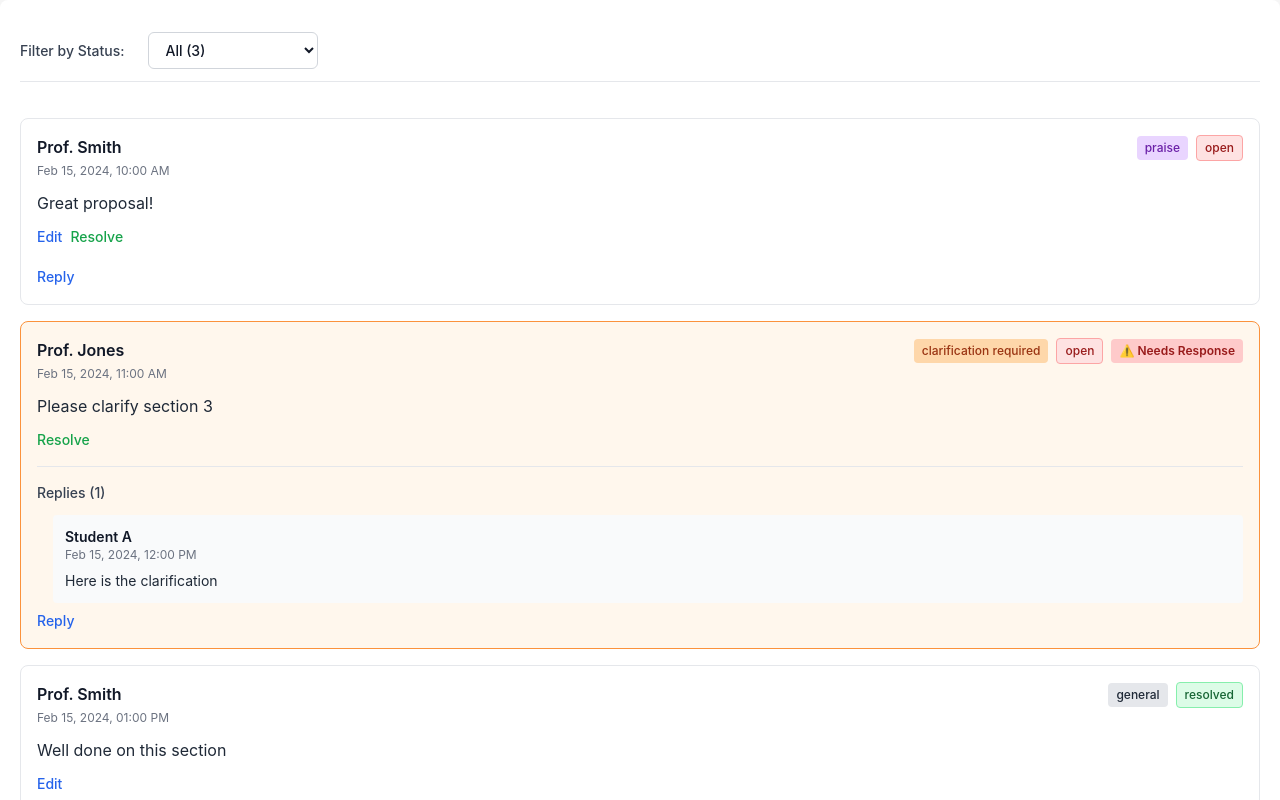
Test: CommentThread › Reply Form › reply button expands inline textarea (criterion 22)
Click the button with aria-label "Reply to comment by" at (56, 277), box [37,267,74,287]
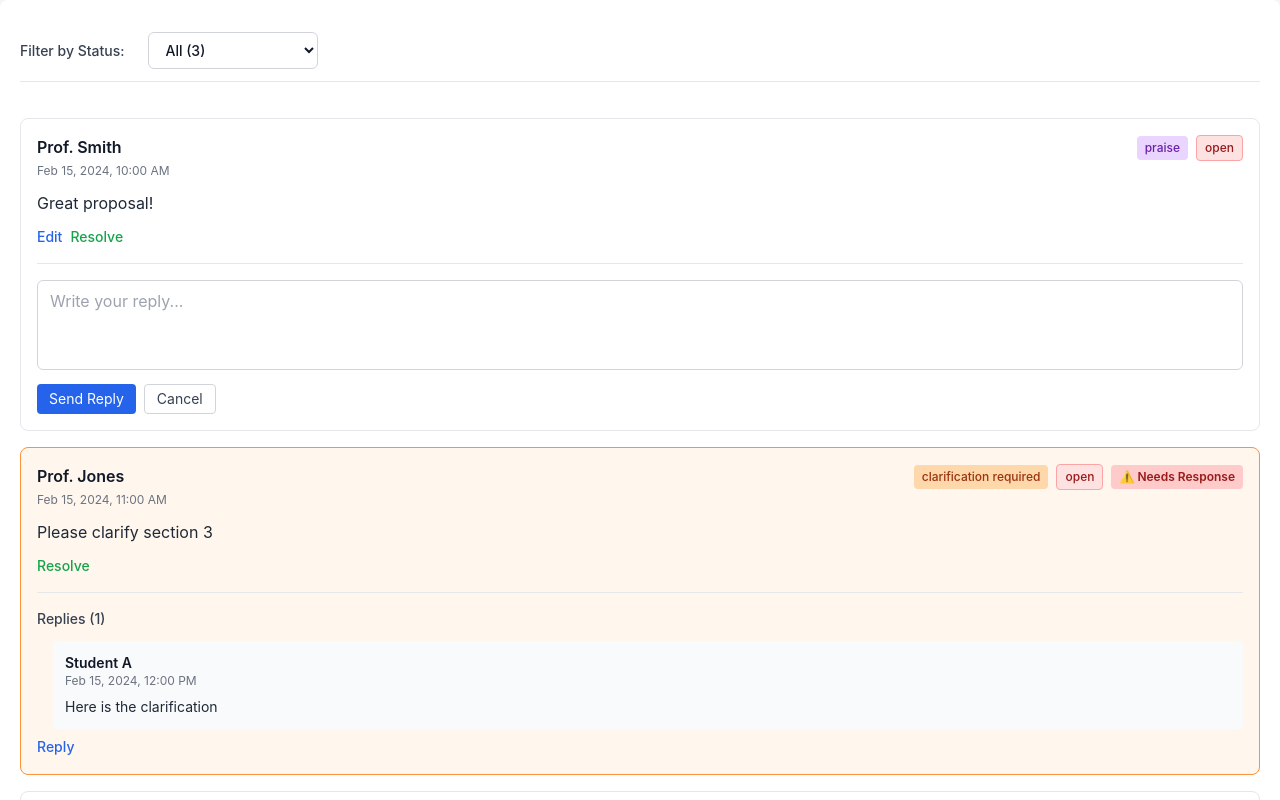
Check: the text box named "Add reply to comment" is shown, box [37,280,1243,370]
